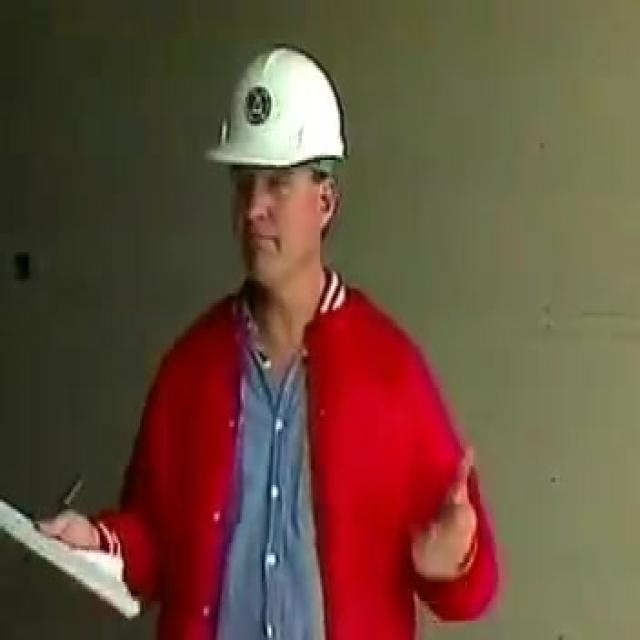Safety-Helmet: (204, 36, 360, 192)
